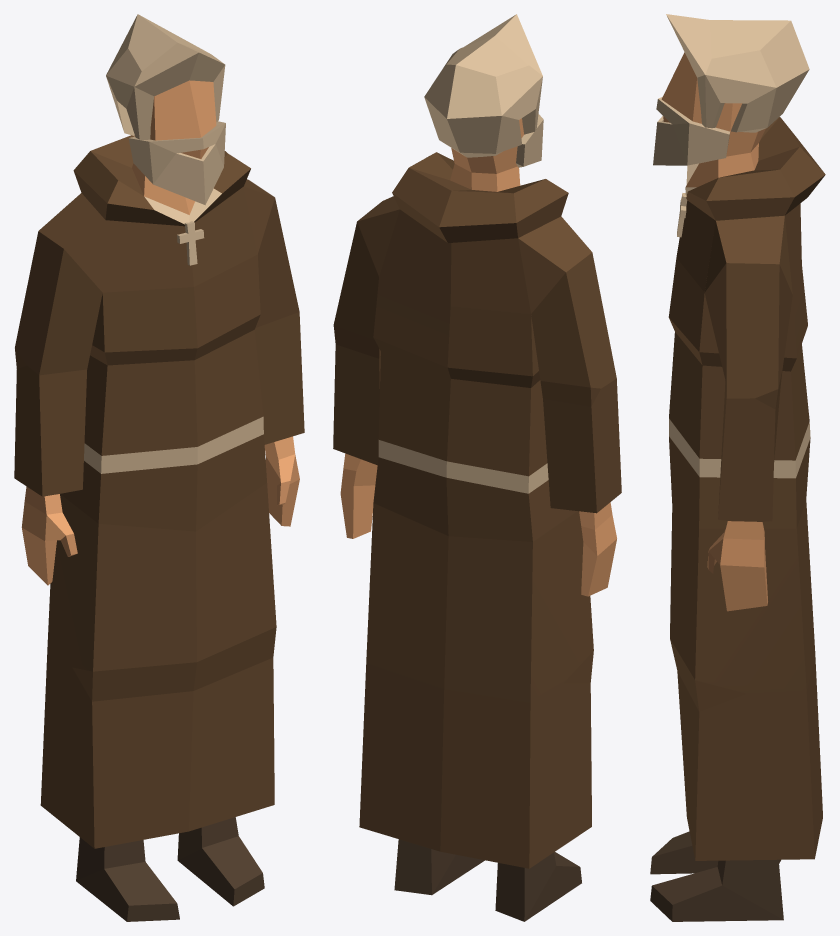
Rendered from people_man-monk-old.fbx.
3 renders of one model, left to right at view 1: azimuth 30°, elevation 25°; view 2: azimuth 150°, elevation 25°; view 3: azimuth 270°, elevation 25°, orthographic. The views are drawn at different scales.
Visible parts, largest first — view 1: people_man_monk_old; view 2: people_man_monk_old; view 3: people_man_monk_old.
Boxes of the visible parts, x1,y1,x2,y2 form: people_man_monk_old: (14, 14, 304, 921); people_man_monk_old: (333, 14, 621, 921); people_man_monk_old: (650, 14, 825, 921).
Bounding box in the file's own units: 64.92 × 200 × 36.41.
